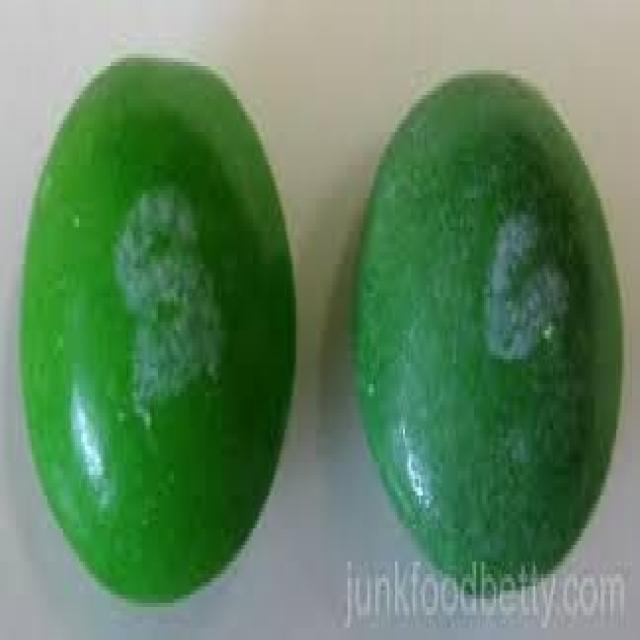smartie: (22, 58, 296, 601), (354, 74, 624, 584)
